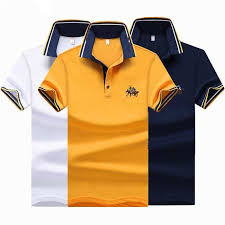C_polo shirt: (44, 31, 176, 208)
